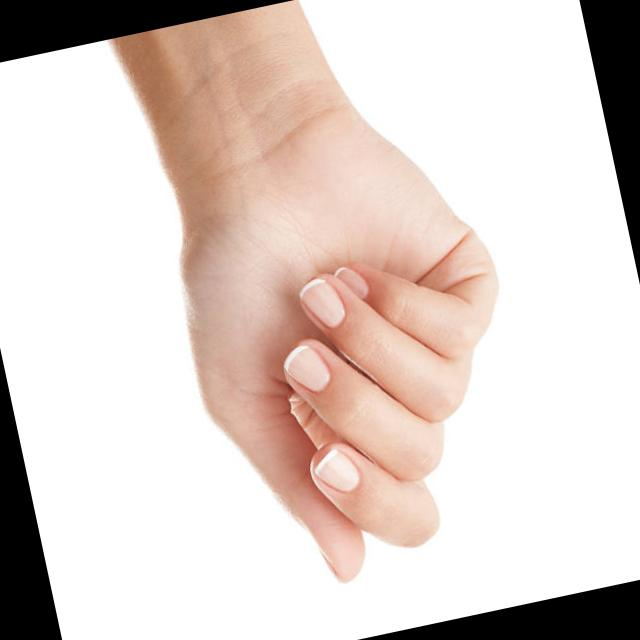Nail: (297, 276, 345, 326), (283, 344, 329, 390), (313, 449, 358, 490), (333, 266, 368, 296)
